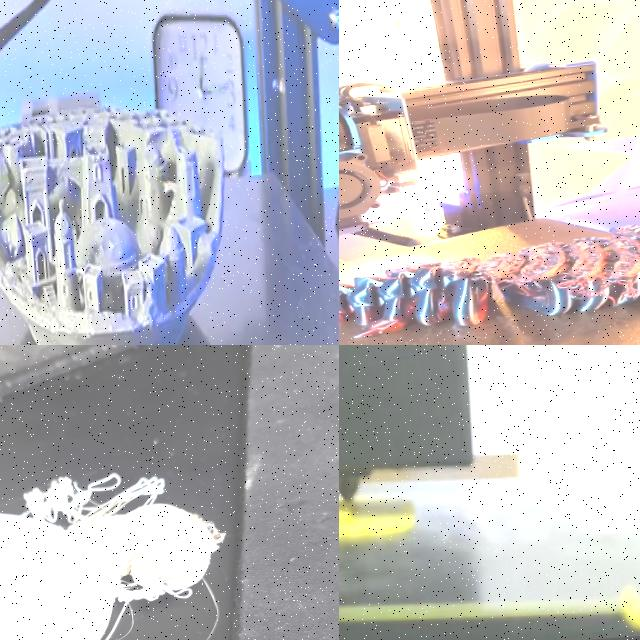spaghetti: (454, 224, 640, 320), (2, 459, 173, 539), (106, 569, 201, 613)
